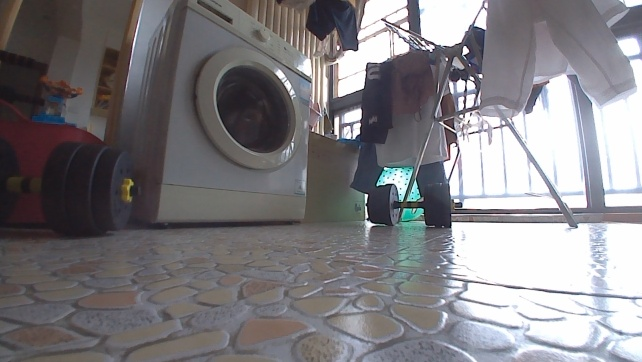washing_machine: (122, 0, 313, 228)
